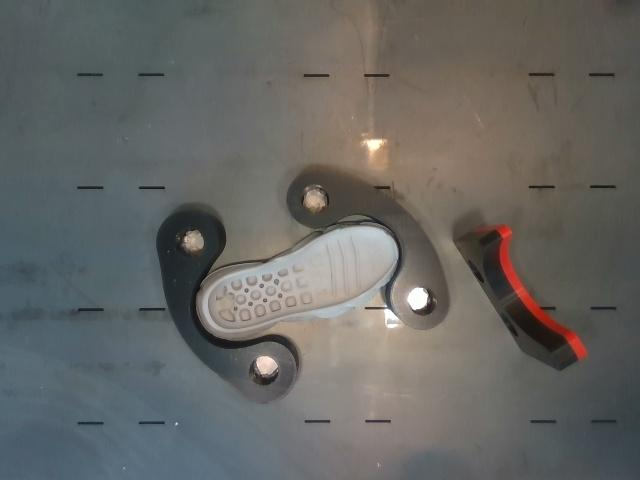shoes: (206, 229, 396, 329)
